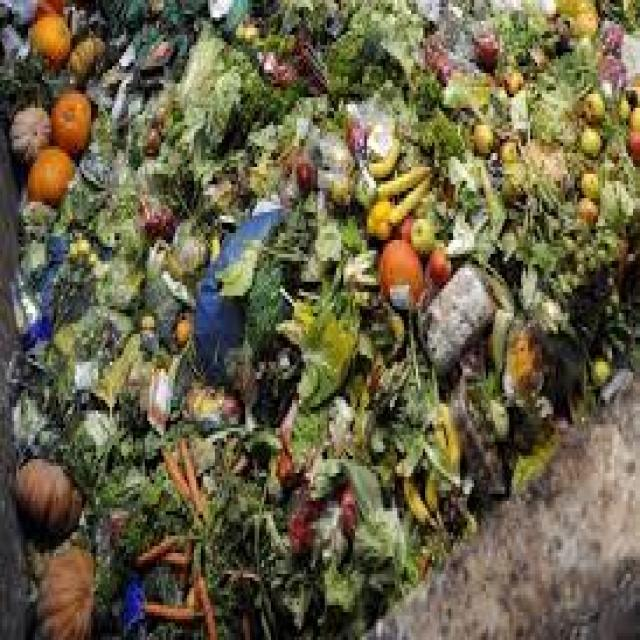food_waste: (23, 33, 551, 440), (32, 464, 359, 603)
